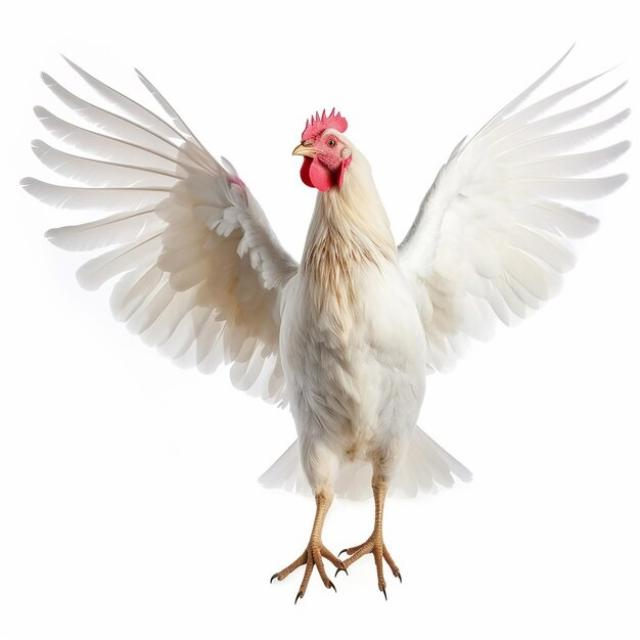Chicken: (22, 44, 631, 604)
